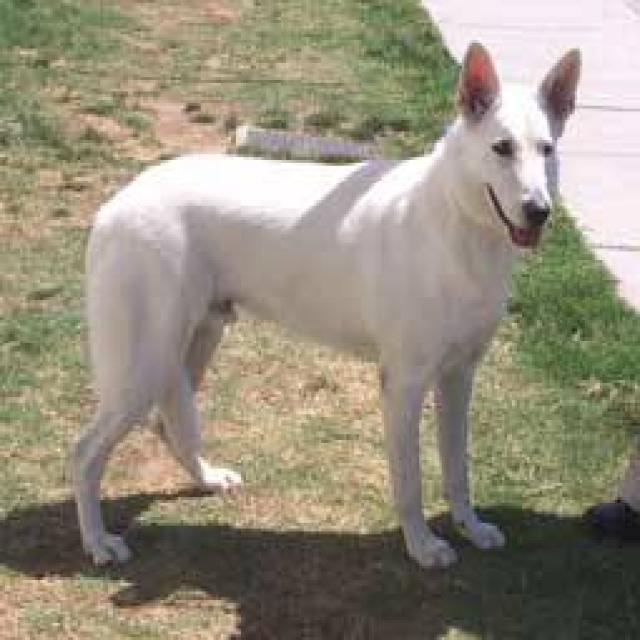dog: (65, 37, 582, 572)
